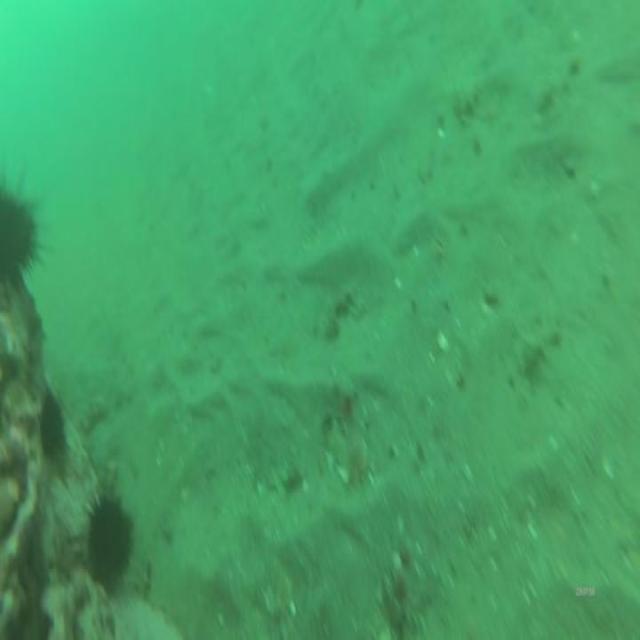echinus: (90, 493, 132, 599), (1, 187, 38, 300), (39, 390, 69, 472)
